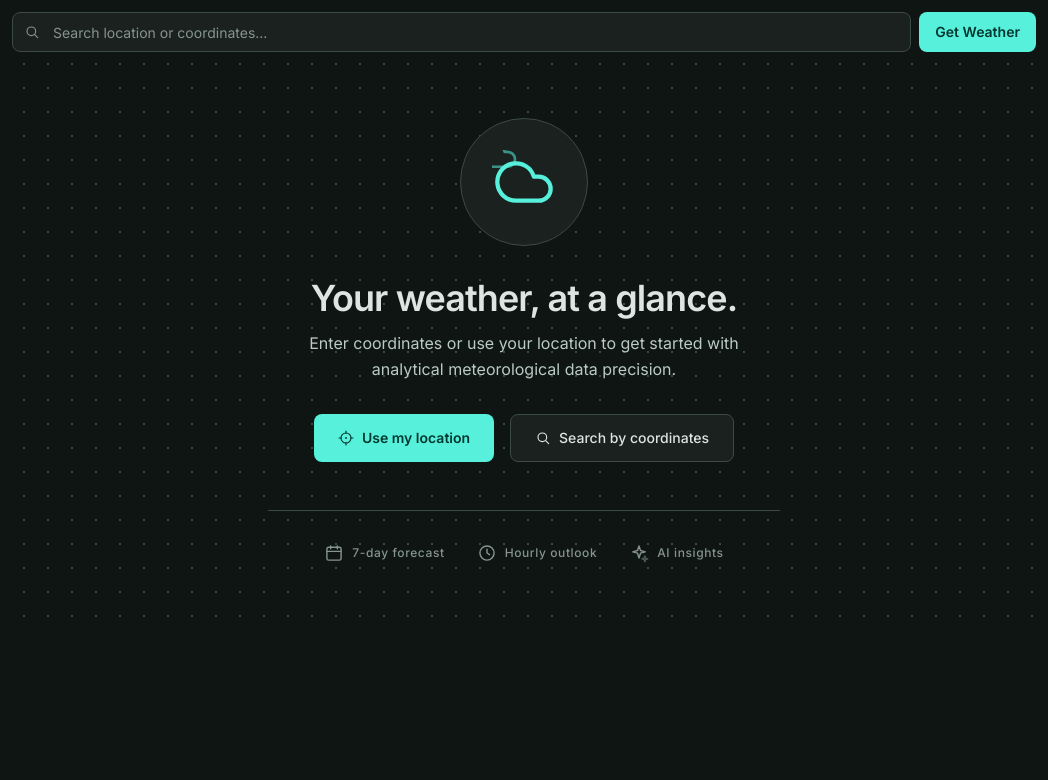
EmptyState › shows an unavailable-location alert when geolocation is denied
Click the button "Use my location": [404, 438] box [314, 414, 494, 462]
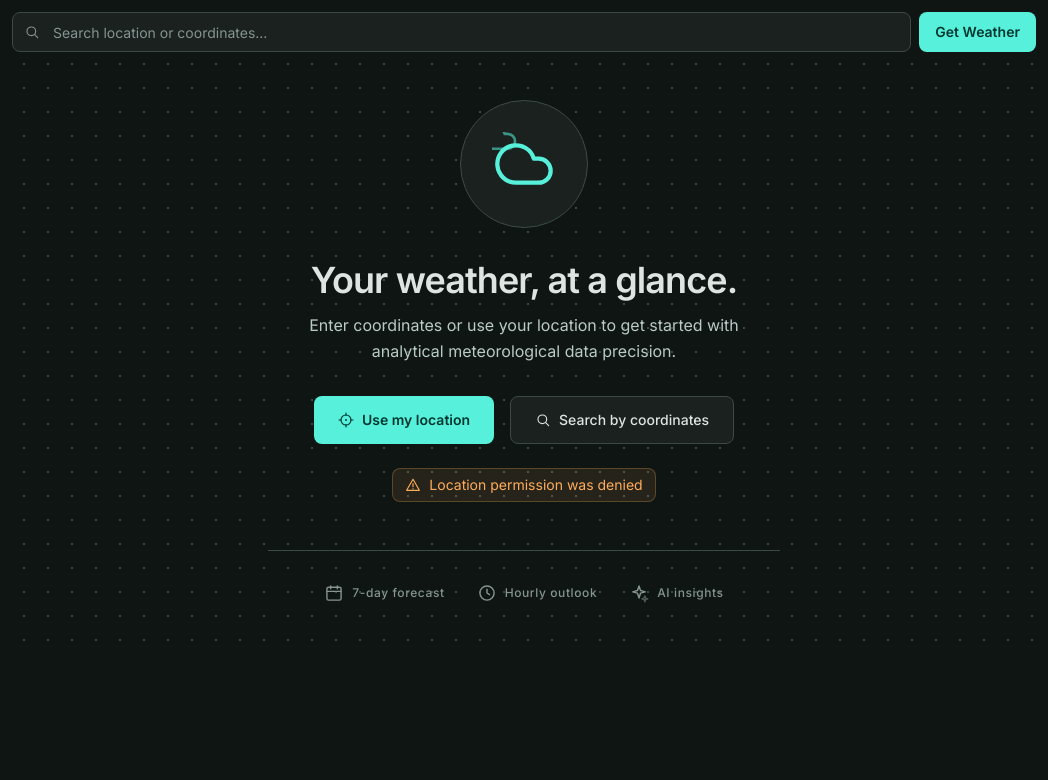
Now the message shows "permission was denied", box [429, 476, 643, 493]
